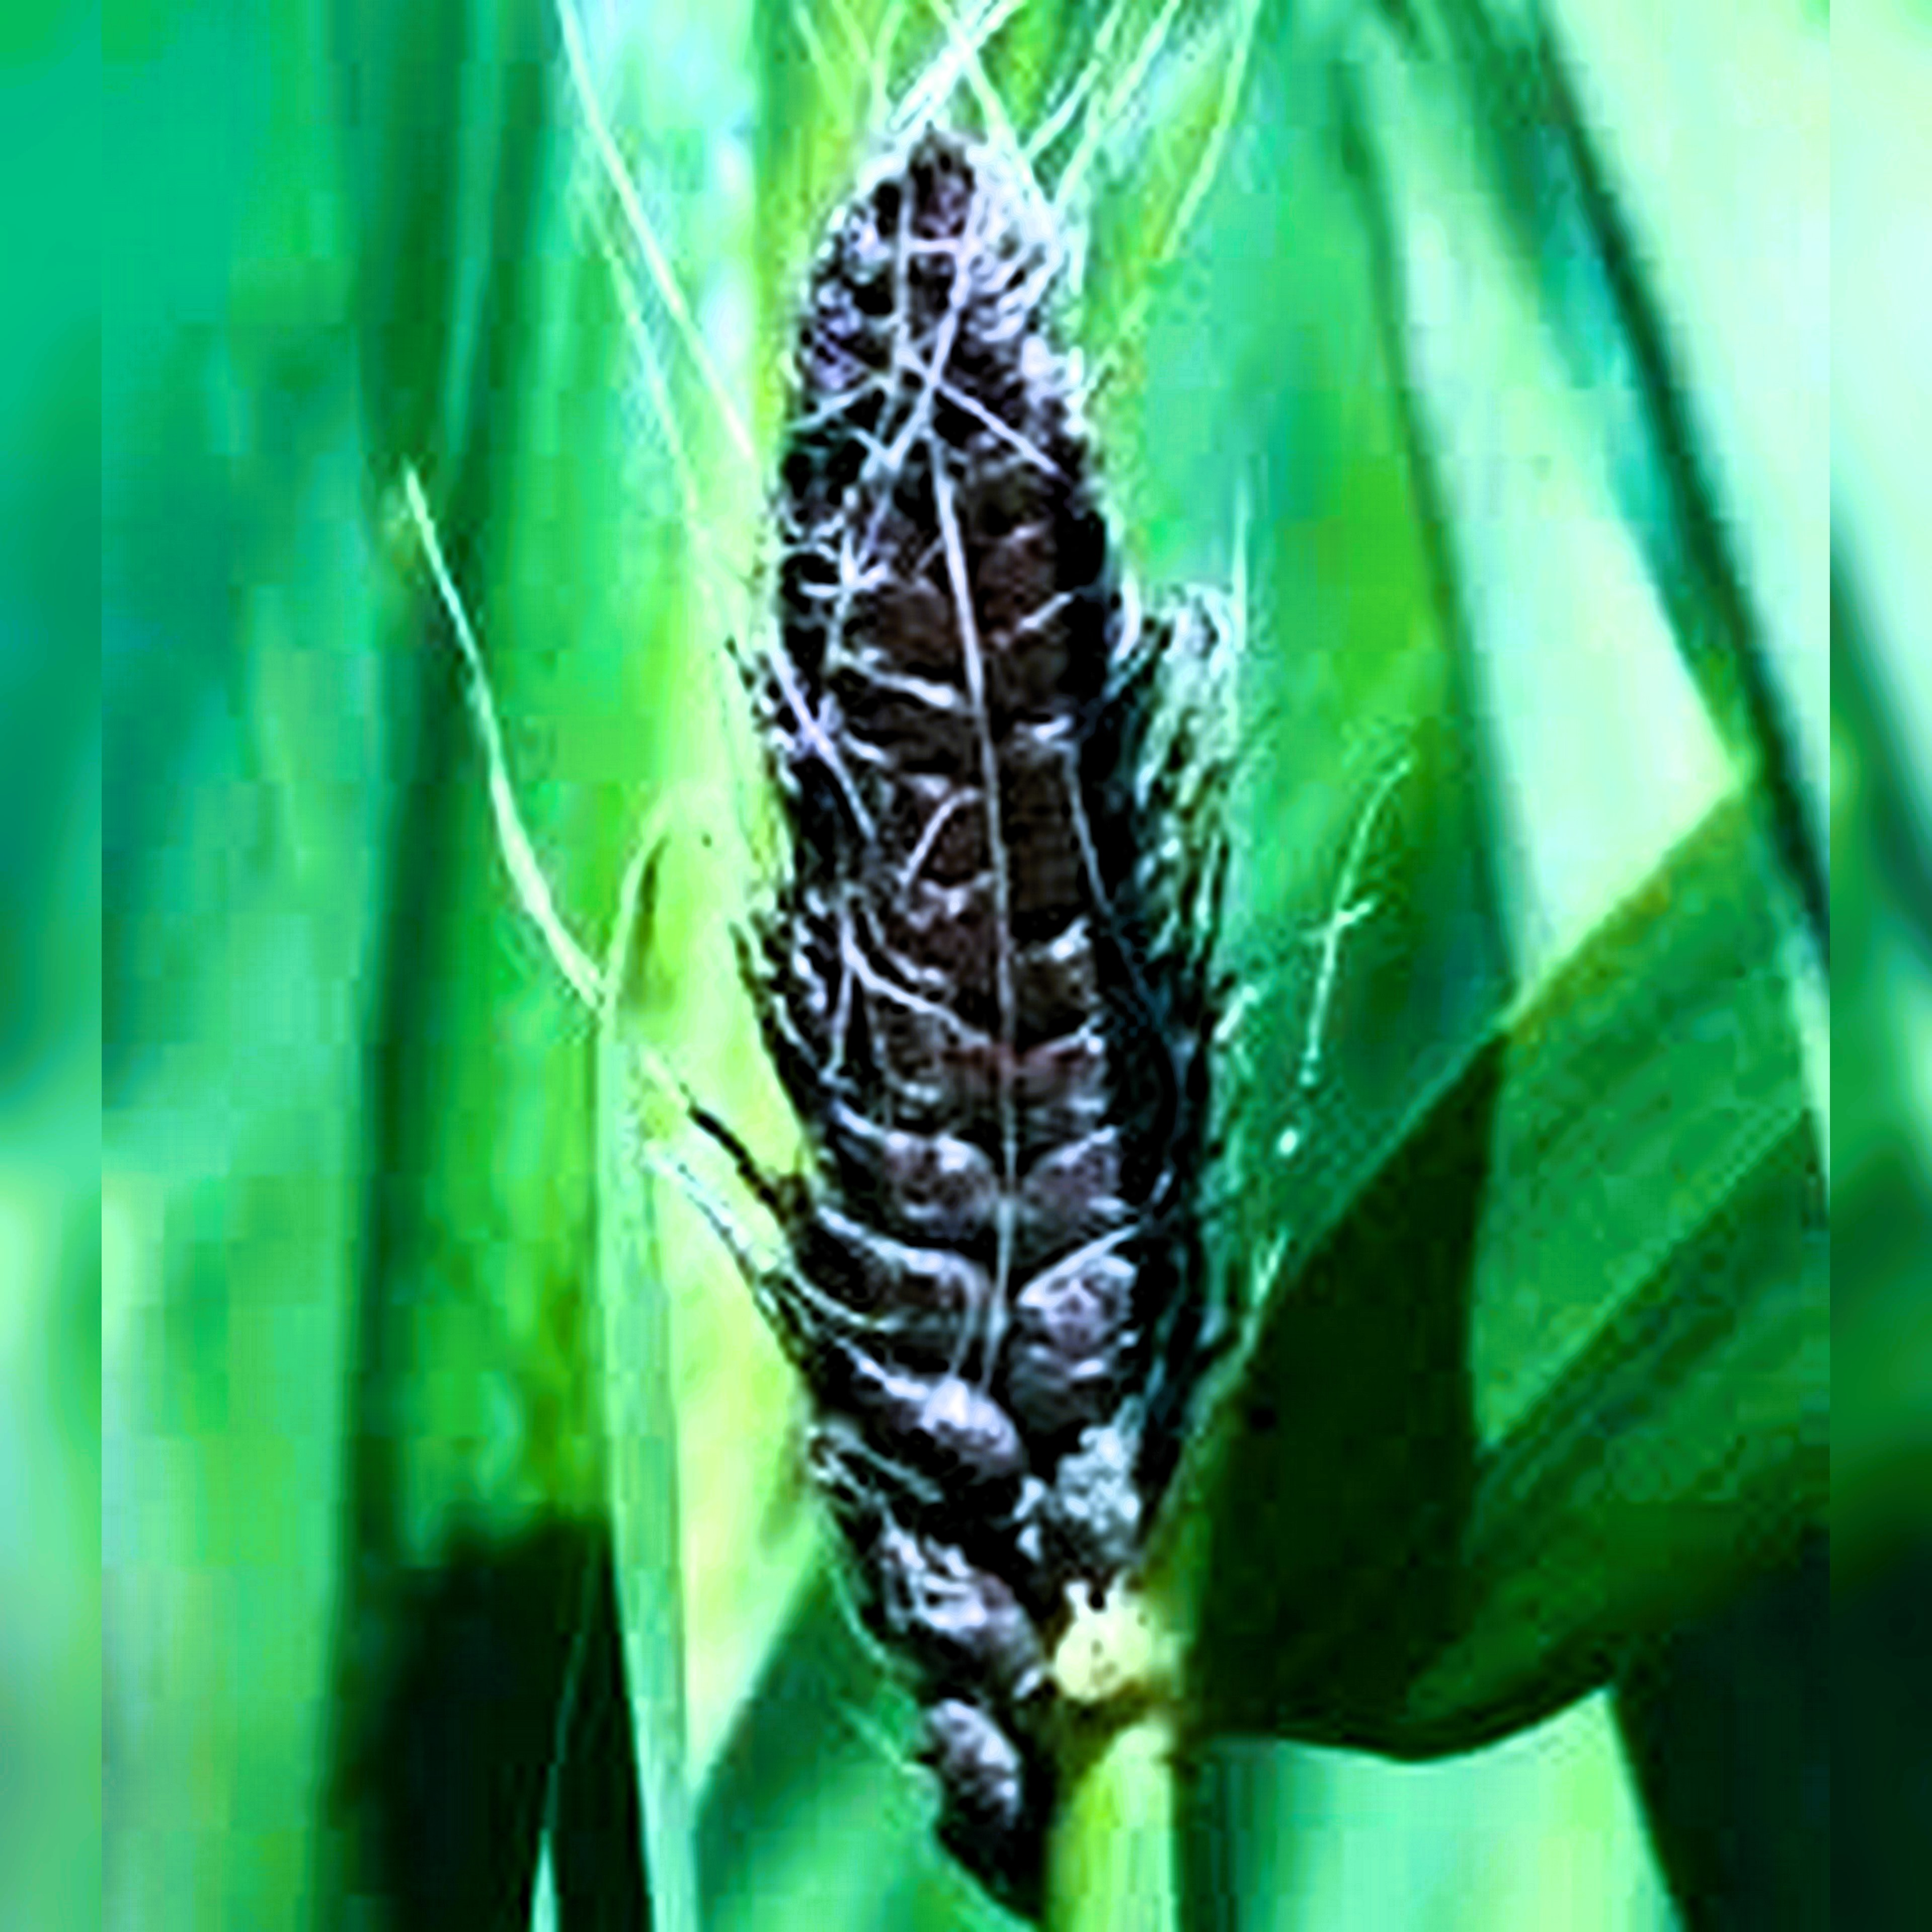Wheat Loose Smut: (617, 166, 1357, 1695)
